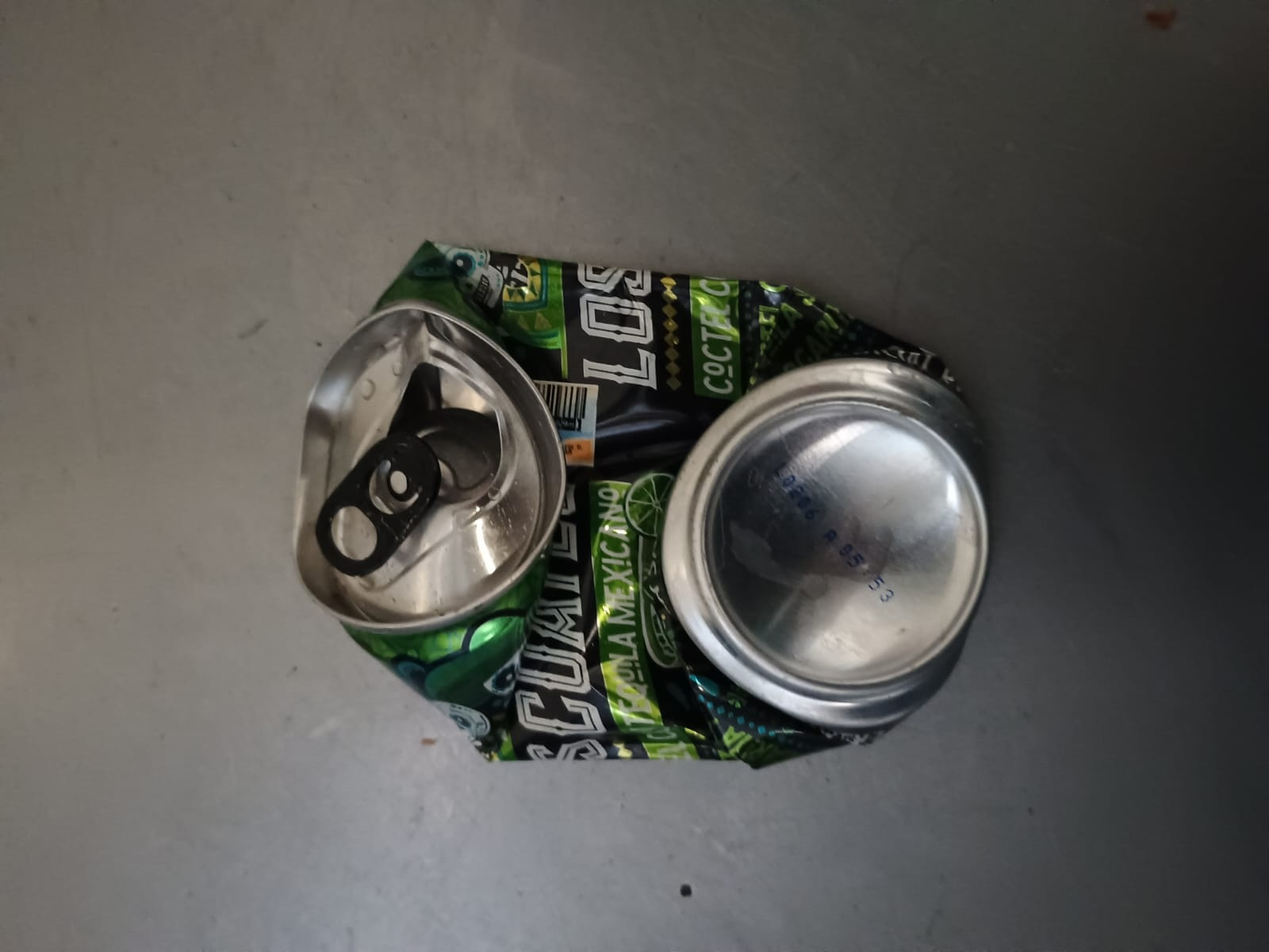Metal: (291, 236, 996, 766)
